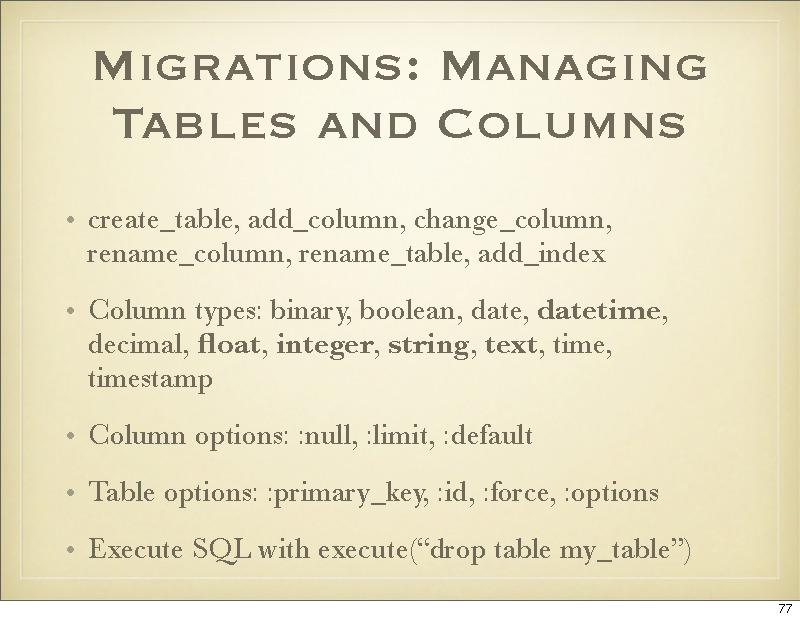paragraph: (57, 201, 708, 590)
title: (83, 36, 719, 158)
